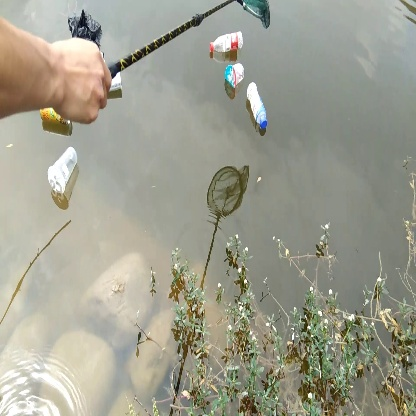bottle: (46, 146, 81, 197), (245, 81, 270, 131), (207, 29, 246, 56)
